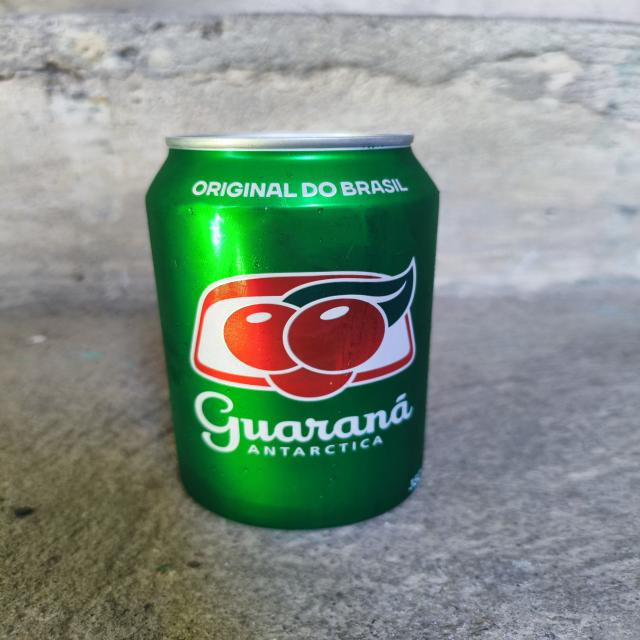Guarana: (134, 125, 452, 536)
